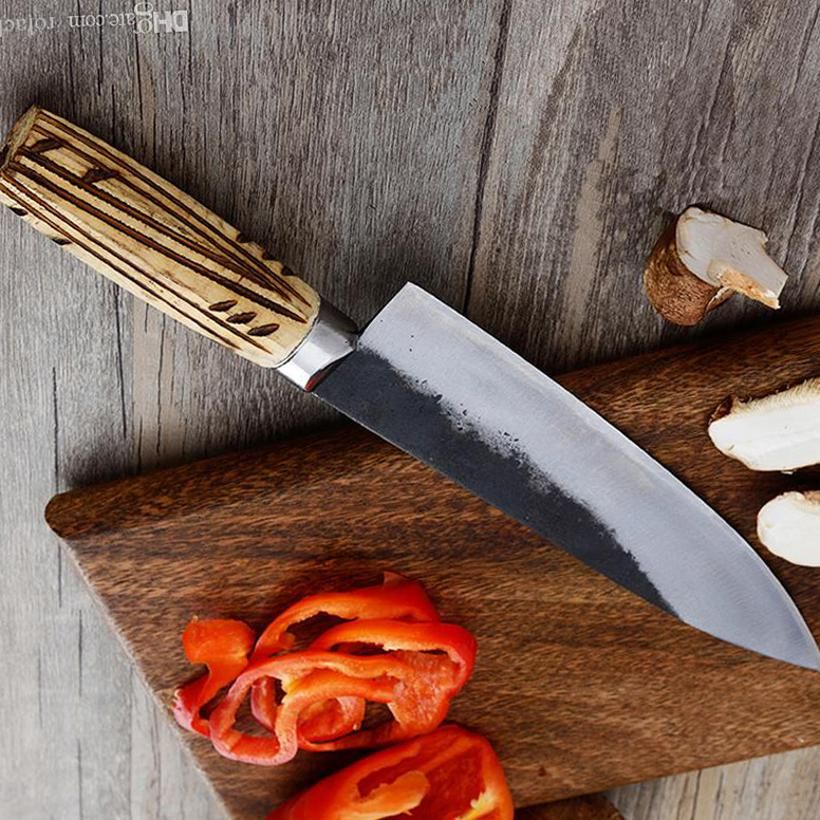knife: (3, 102, 820, 674)
